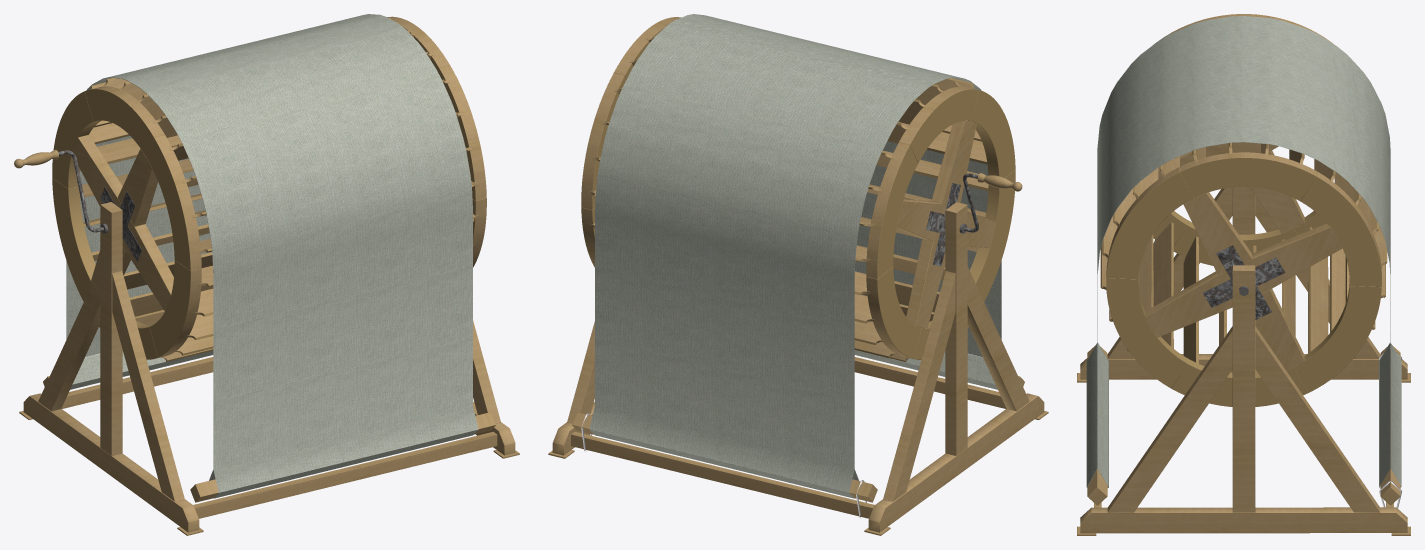
Rendered from Animation Windmaschine zugeschnitten.gltf.
The picture shows the model from 3 angles, left to right: view 1: azimuth 30°, elevation 25°; view 2: azimuth 150°, elevation 25°; view 3: azimuth 270°, elevation 25°; orthographic projection.
Visible parts, largest first — view 1: Polygon-Fabric_06-LeinenTuch, drum-front-segment-wood-light-04326-1 (×8), diagonal-wood-light-04326-1 (×3), horizontal below-wood-light-04326-1 (×2), Group-wood-light-04326-1 (×2), Polygon-wood-light-04326-1 (×2), vertical-wood-light-04326-1, baroqueMachinery_Wind-Lamelle-wood-light-04326-1 (×2), horizontal fabric-wood-light-04326-1, steel cross-Iron_Dirty_20cm; view 2: Polygon-Fabric_06-LeinenTuch, drum-front-segment-wood-light-04326-1 (×7), diagonal-wood-light-04326-1 (×3), horizontal below-wood-light-04326-1 (×2), Group-wood-light-04326-1 (×2), Polygon-wood-light-04326-1 (×2), vertical-wood-light-04326-1, baroqueMachinery_Wind-Lamelle-wood-light-04326-1 (×2), steel cross-Iron_Dirty_20cm, horizontal fabric-wood-light-04326-1; view 3: Polygon-Fabric_06-LeinenTuch, drum-front-segment-wood-light-04326-1 (×8), diagonal-wood-light-04326-1 (×4), Group-wood-light-04326-1 (×4), Polygon-wood-light-04326-1 (×2), baroqueMachinery_Wind-Lamelle-wood-light-04326-1 (×6), vertical-wood-light-04326-1 (×2), steel cross-Iron_Dirty_20cm, horizontal fabric-wood-light-04326-1 (×2).
Part boxes in pixels (x1=…): Polygon-Fabric_06-LeinenTuch: x1=66, y1=14, x2=478, y2=498; drum-front-segment-wood-light-04326-1 (×8): x1=52, y1=16, x2=486, y2=357; diagonal-wood-light-04326-1 (×3): x1=38, y1=267, x2=500, y2=501; horizontal below-wood-light-04326-1 (×2): x1=62, y1=357, x2=497, y2=518; Group-wood-light-04326-1 (×2): x1=72, y1=135, x2=173, y2=310; Polygon-wood-light-04326-1 (×2): x1=23, y1=393, x2=515, y2=532; vertical-wood-light-04326-1: x1=100, y1=202, x2=122, y2=455; baroqueMachinery_Wind-Lamelle-wood-light-04326-1 (×2): x1=80, y1=135, x2=213, y2=316; horizontal fabric-wood-light-04326-1: x1=190, y1=412, x2=495, y2=502; steel cross-Iron_Dirty_20cm: x1=100, y1=187, x2=141, y2=261; Polygon-Fabric_06-LeinenTuch: x1=589, y1=14, x2=1001, y2=498; drum-front-segment-wood-light-04326-1 (×7): x1=581, y1=17, x2=1015, y2=358; diagonal-wood-light-04326-1 (×3): x1=567, y1=267, x2=1029, y2=501; horizontal below-wood-light-04326-1 (×2): x1=571, y1=357, x2=1006, y2=518; Group-wood-light-04326-1 (×2): x1=896, y1=120, x2=995, y2=328; Polygon-wood-light-04326-1 (×2): x1=552, y1=393, x2=1044, y2=532; vertical-wood-light-04326-1: x1=945, y1=202, x2=967, y2=455; baroqueMachinery_Wind-Lamelle-wood-light-04326-1 (×2): x1=882, y1=122, x2=988, y2=190; steel cross-Iron_Dirty_20cm: x1=926, y1=183, x2=960, y2=266; horizontal fabric-wood-light-04326-1: x1=572, y1=412, x2=877, y2=502; Polygon-Fabric_06-LeinenTuch: x1=1086, y1=16, x2=1401, y2=488; drum-front-segment-wood-light-04326-1 (×8): x1=1106, y1=152, x2=1381, y2=406; diagonal-wood-light-04326-1 (×4): x1=1107, y1=187, x2=1380, y2=512; Group-wood-light-04326-1 (×4): x1=1145, y1=142, x2=1342, y2=370; Polygon-wood-light-04326-1 (×2): x1=1080, y1=354, x2=1407, y2=533; baroqueMachinery_Wind-Lamelle-wood-light-04326-1 (×6): x1=1127, y1=222, x2=1355, y2=363; vertical-wood-light-04326-1 (×2): x1=1232, y1=186, x2=1255, y2=512; steel cross-Iron_Dirty_20cm: x1=1203, y1=245, x2=1285, y2=319; horizontal fabric-wood-light-04326-1 (×2): x1=1087, y1=344, x2=1400, y2=505.
Size of what is drawn, in the model's own units: 57.13 by 50.9 by 40.95.
Materials: 6 (3 with a texture image).
